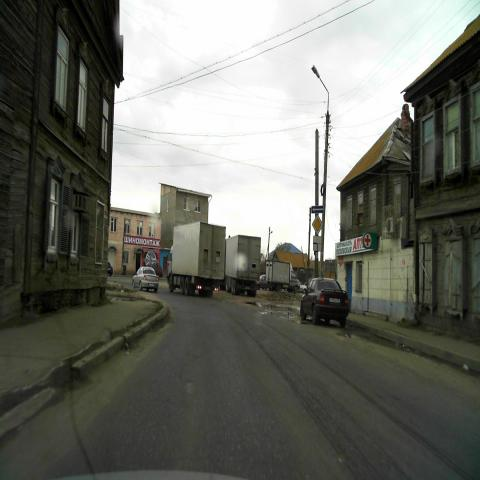5_7_2: (311, 206, 323, 214)
